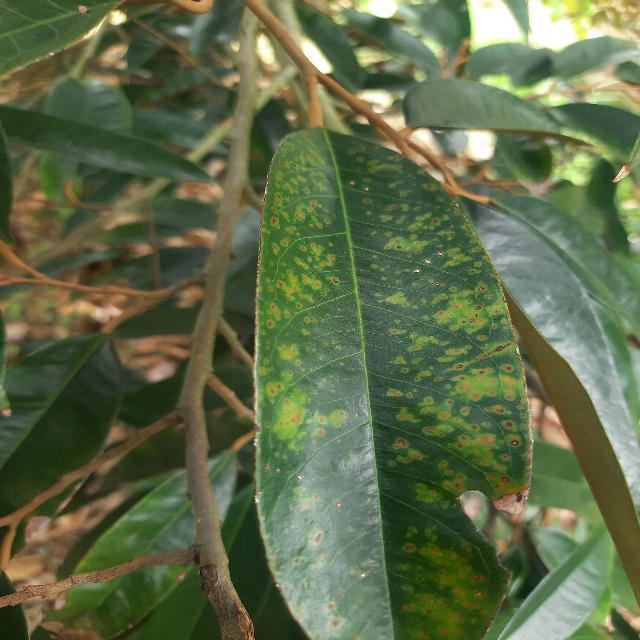Leaf Spot: (247, 109, 543, 639)
